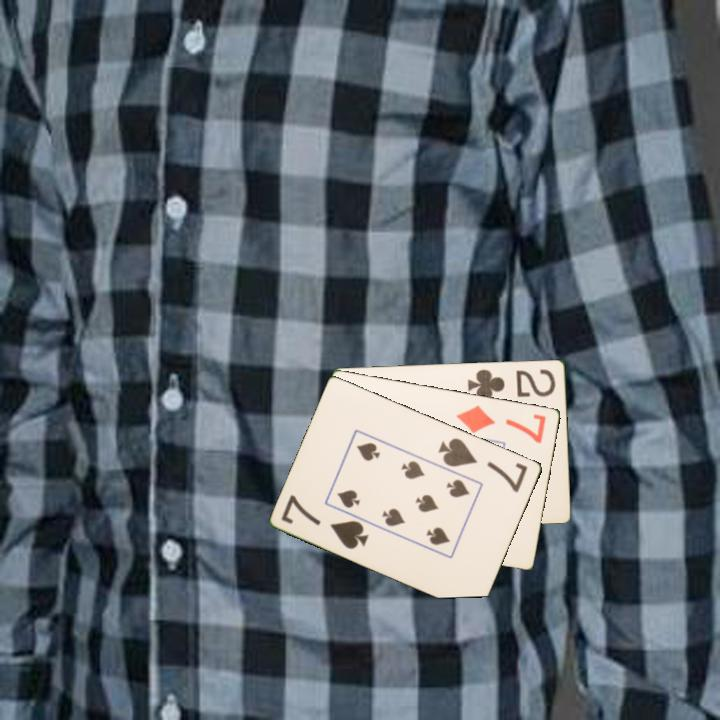2c: (464, 365, 559, 403)
7d: (453, 401, 549, 446)
7s: (435, 434, 531, 495), (278, 491, 372, 552)
